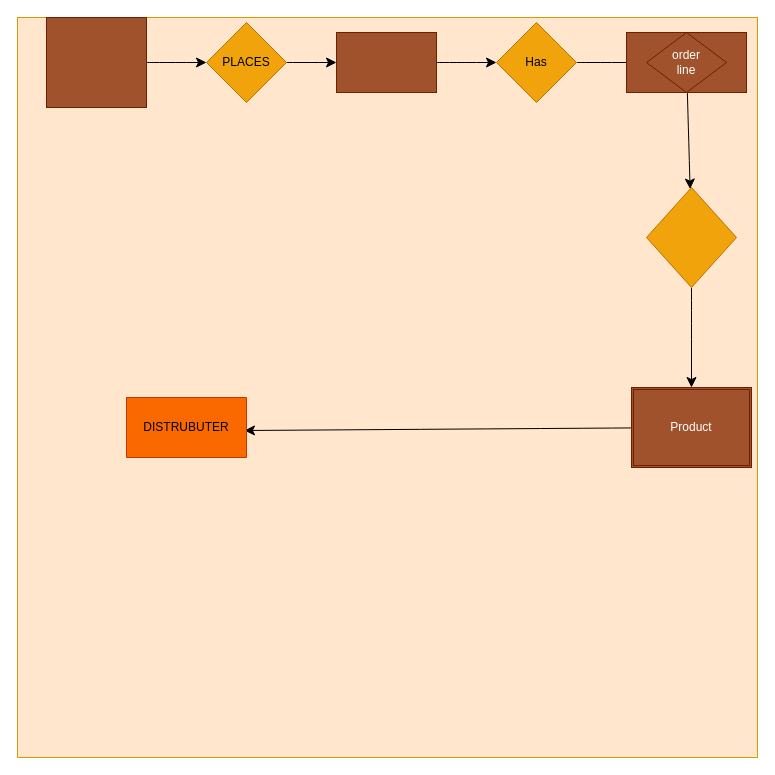
Image size: 775x775. Some labels were removed from this diagram. Each missing label, with the centre of its shape:
"Contains" goes at (x=691, y=237).
"CUSTOMER" goes at (x=96, y=62).
"ORDER" goes at (x=386, y=62).
